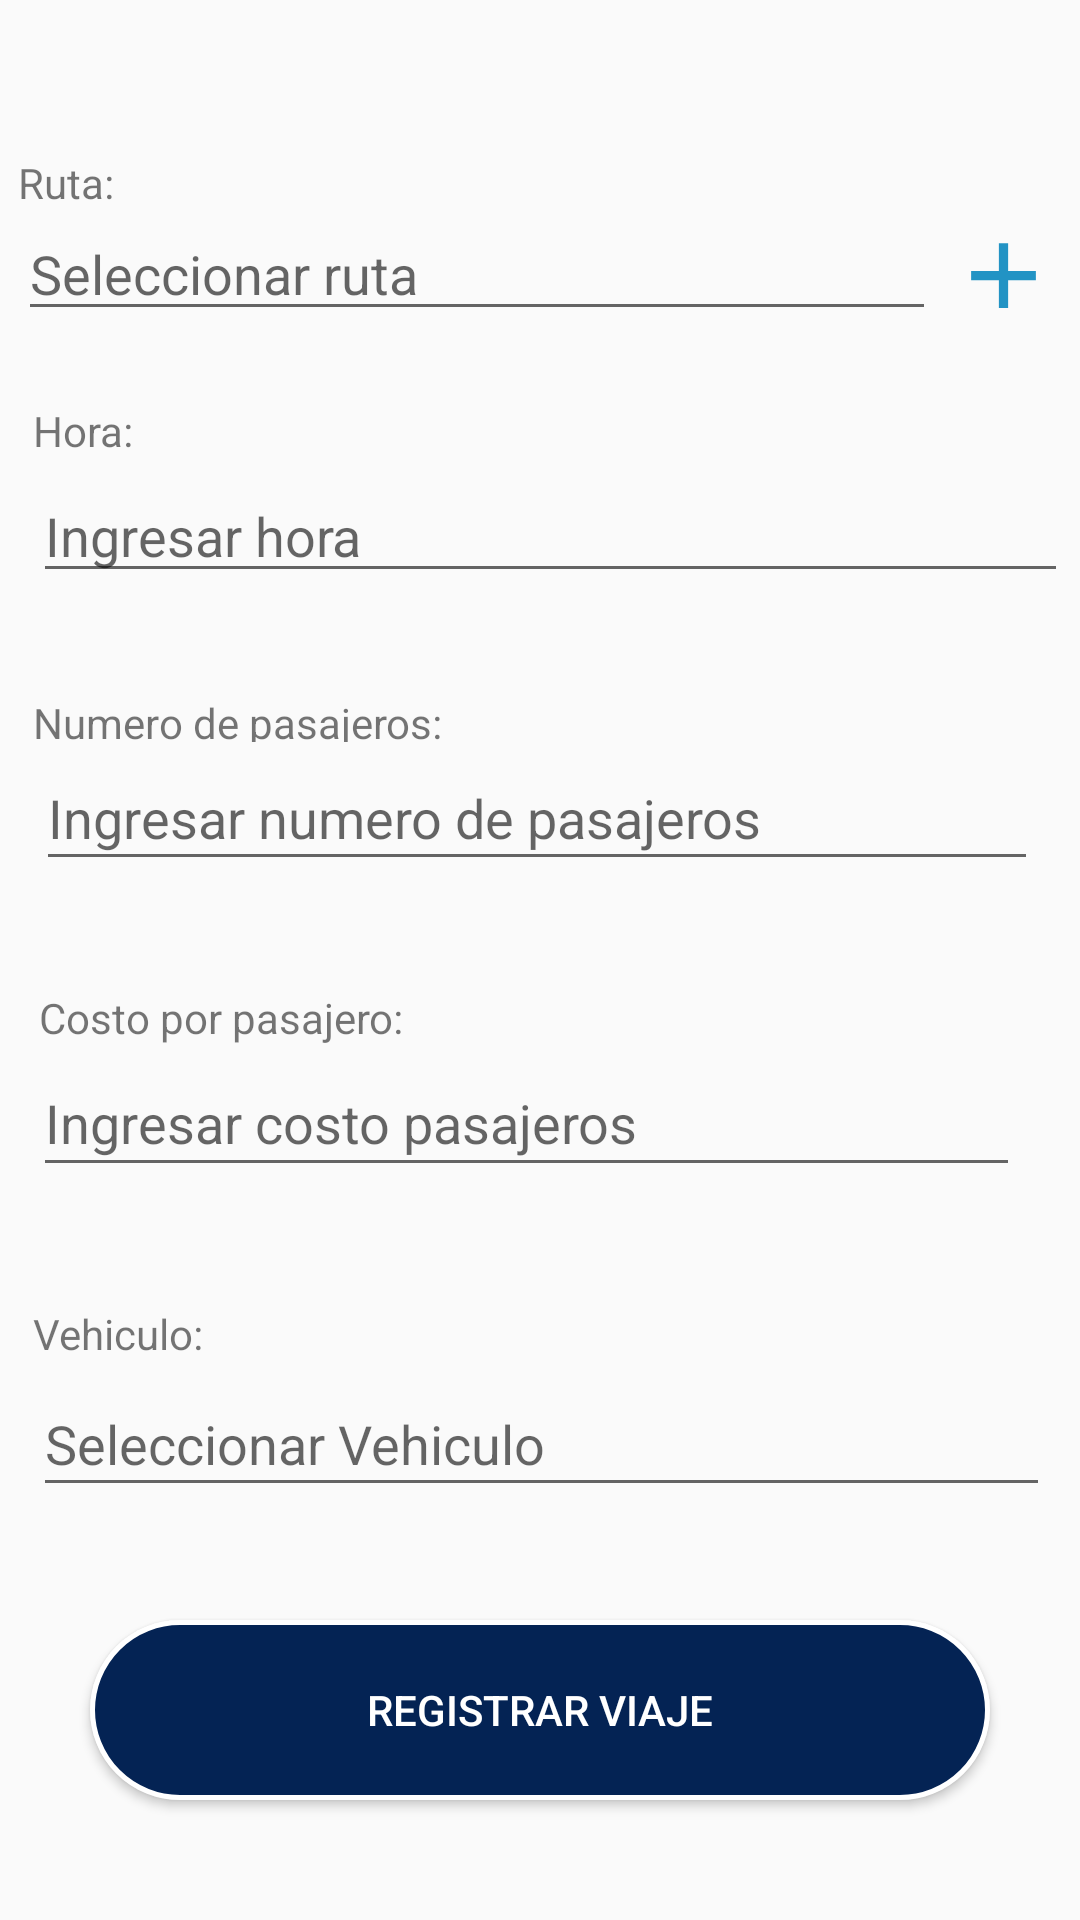

Where to tap for icons on this 1080×1920 app screen, as [x,y]:
add: [1003,275]
